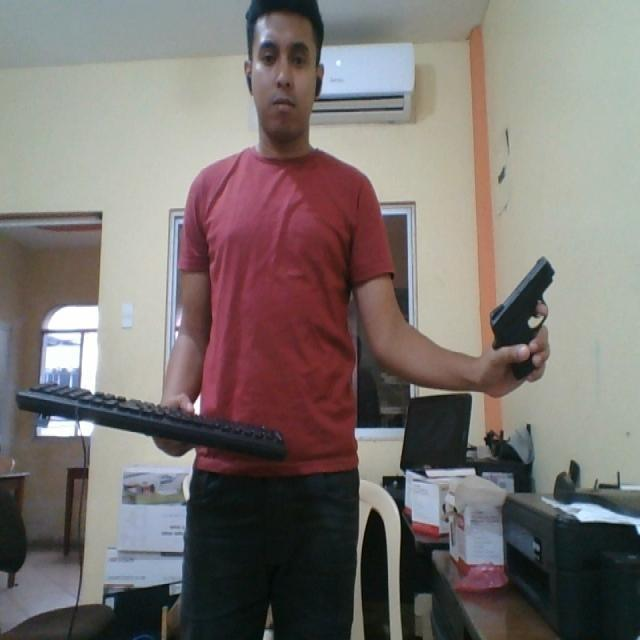weapon: (485, 252, 560, 389)
